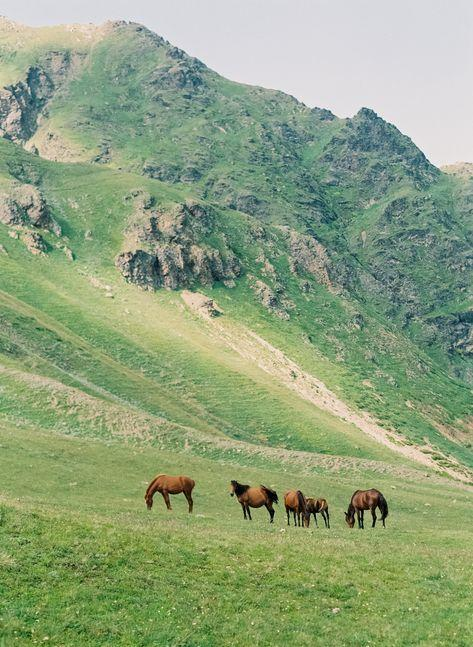horse: (229, 479, 278, 523), (144, 473, 195, 513), (344, 487, 388, 528), (283, 489, 308, 527), (303, 497, 329, 528)
